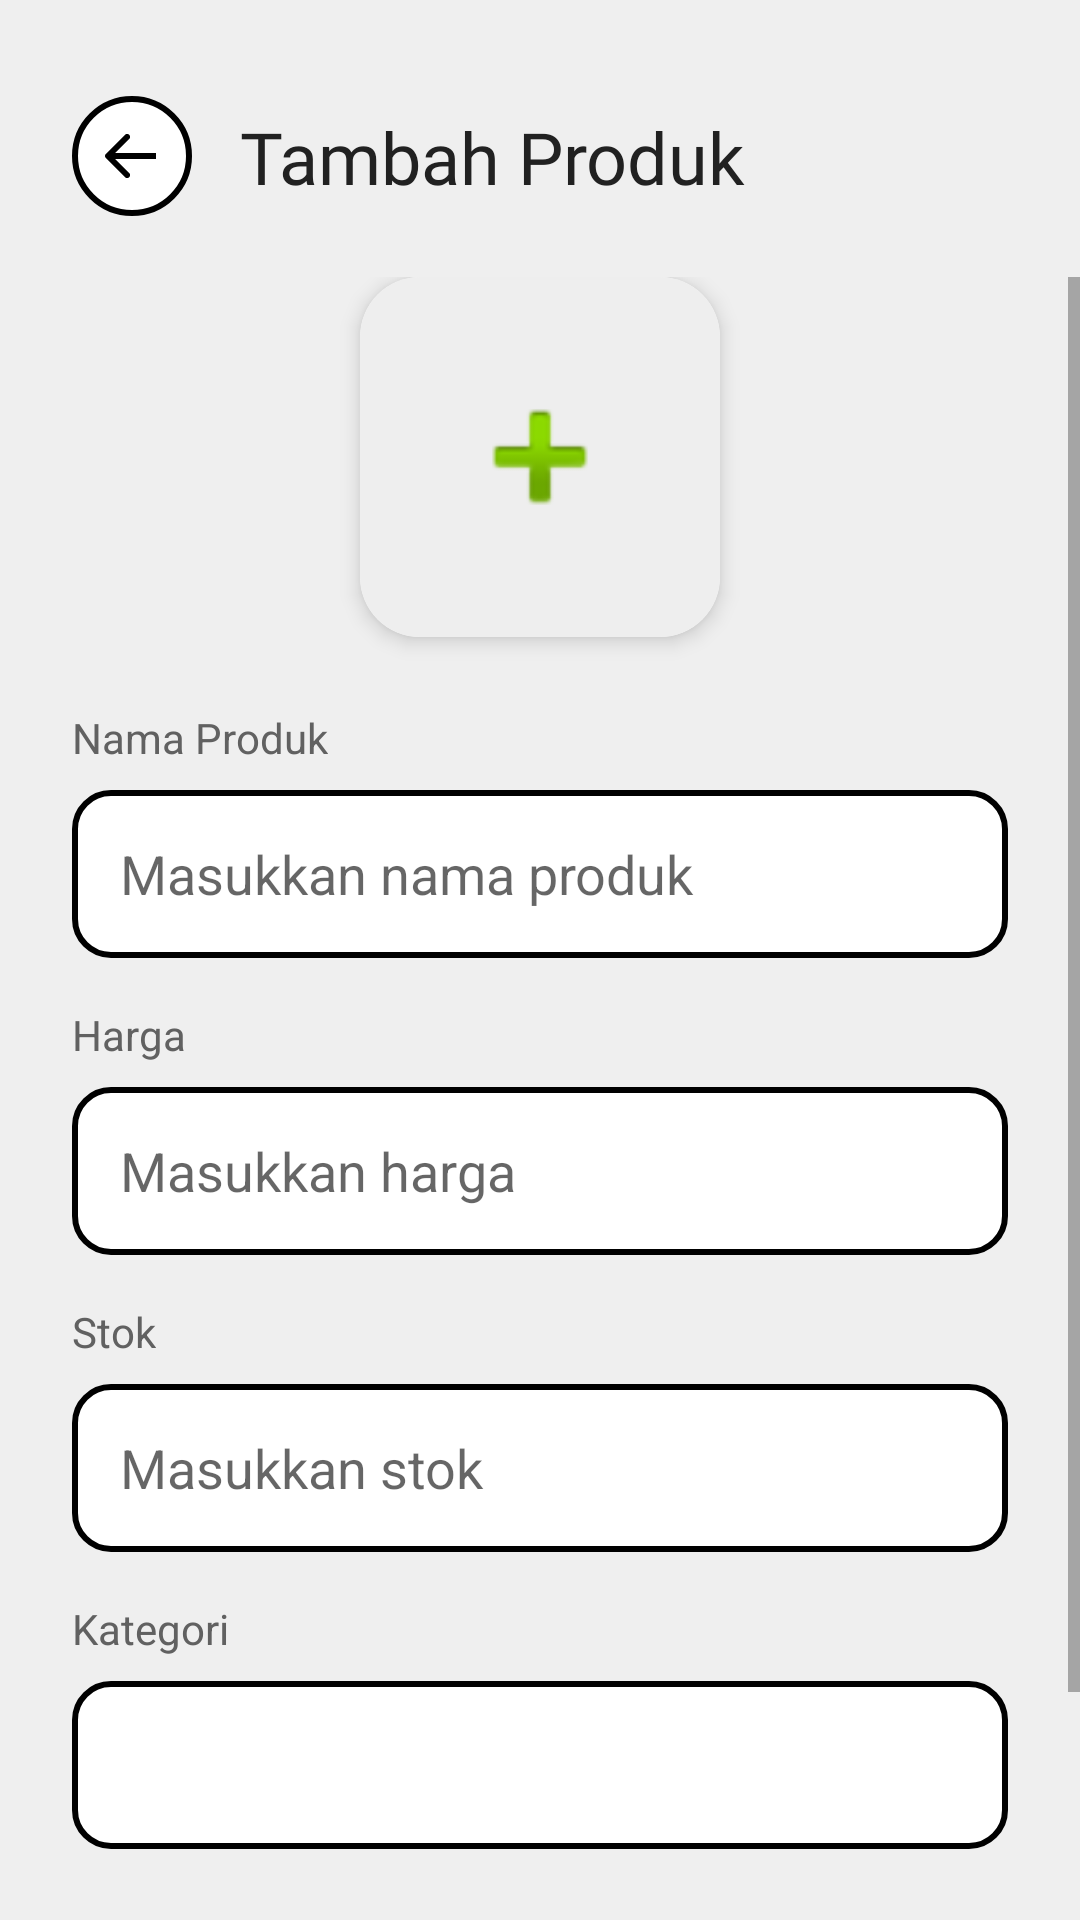

Icon click points for this 1080×1920 phone screenshot, format (x,y):
Gambar Produk: (540,523)
Kembali: (132,156)
